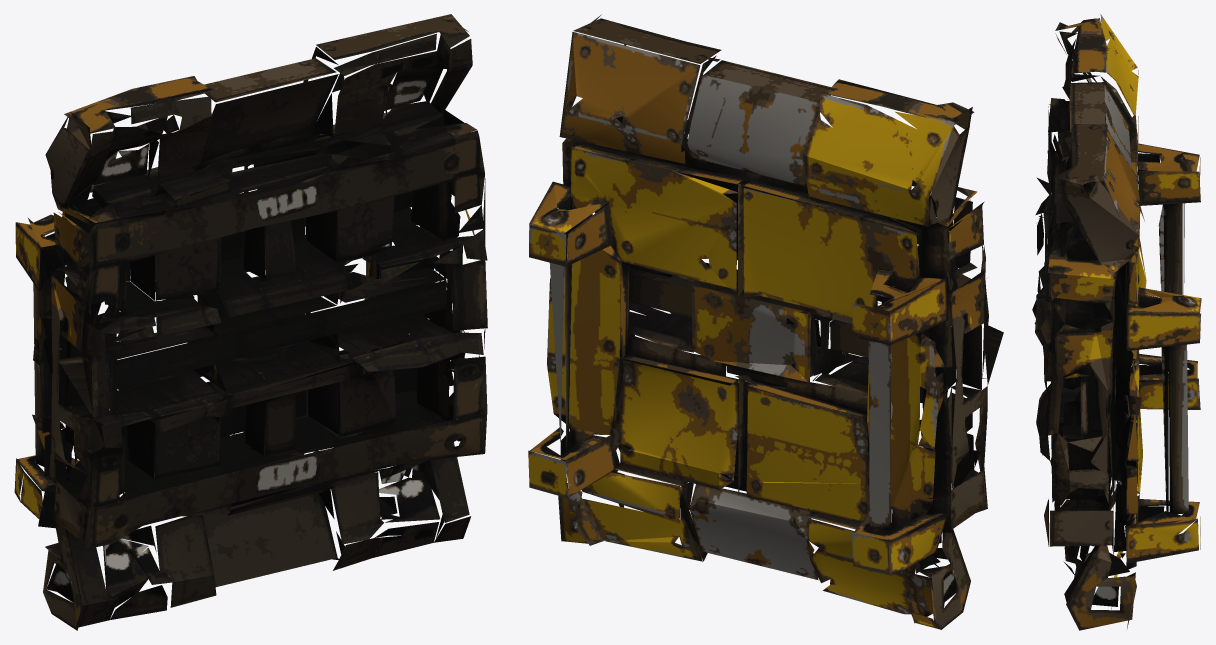
The model's file is mo_ablative.glb.
3 renders of one model, left to right at view 1: azimuth 30°, elevation 25°; view 2: azimuth 150°, elevation 25°; view 3: azimuth 270°, elevation 25°, orthographic. The views are drawn at different scales.
Parts seen in each view (by area): view 1: mo_ablative; view 2: mo_ablative; view 3: mo_ablative.
Part boxes in pixels (x1=…): mo_ablative: x1=14, y1=14, x2=487, y2=630; mo_ablative: x1=528, y1=14, x2=1003, y2=629; mo_ablative: x1=1032, y1=14, x2=1201, y2=630.
Size of the model in its own units: 0.1715 by 0.1967 by 0.0669.
1 material, 1 textured.
